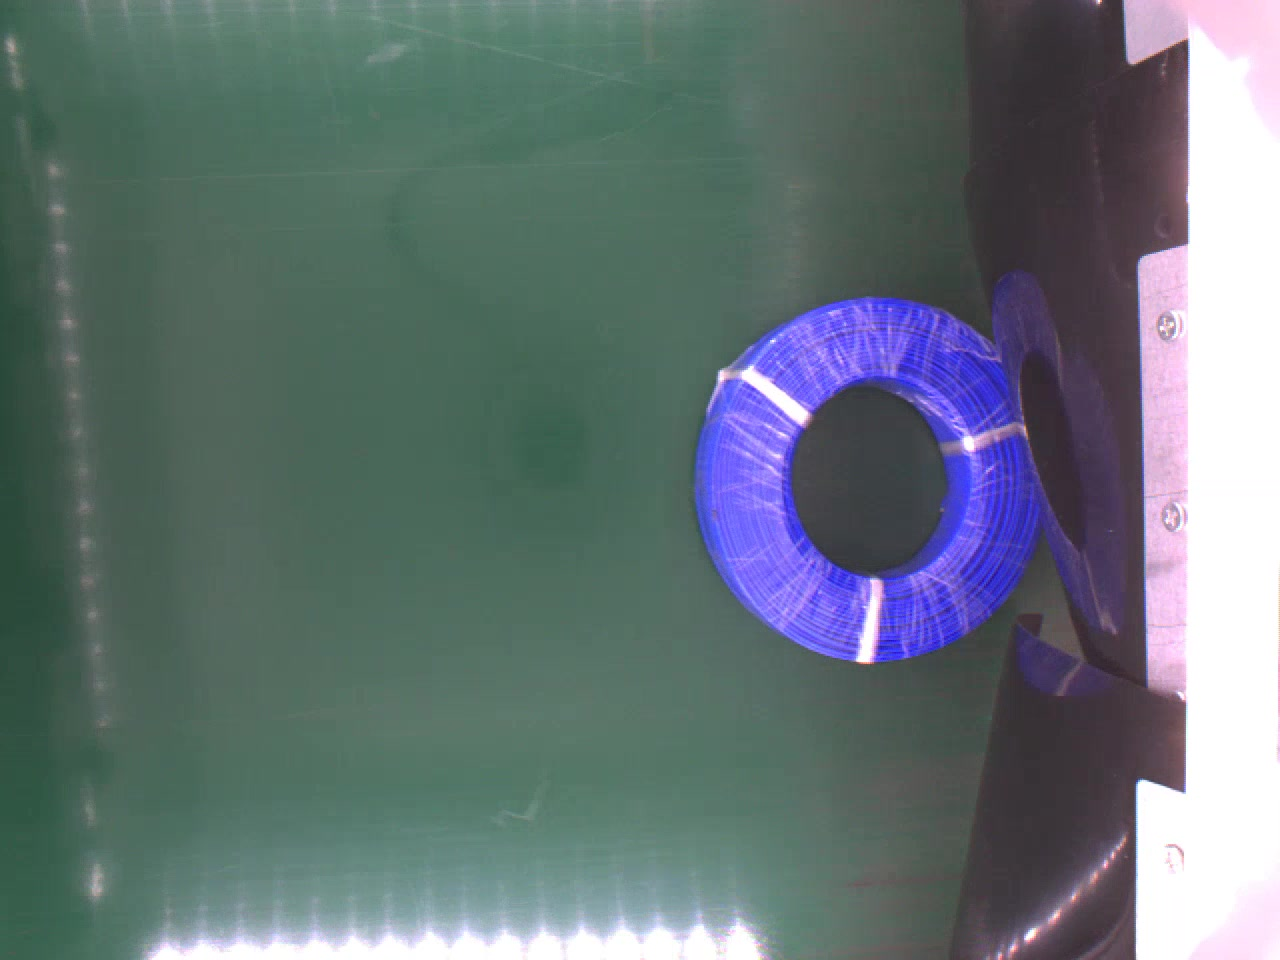blue: (691, 291, 1043, 663)
